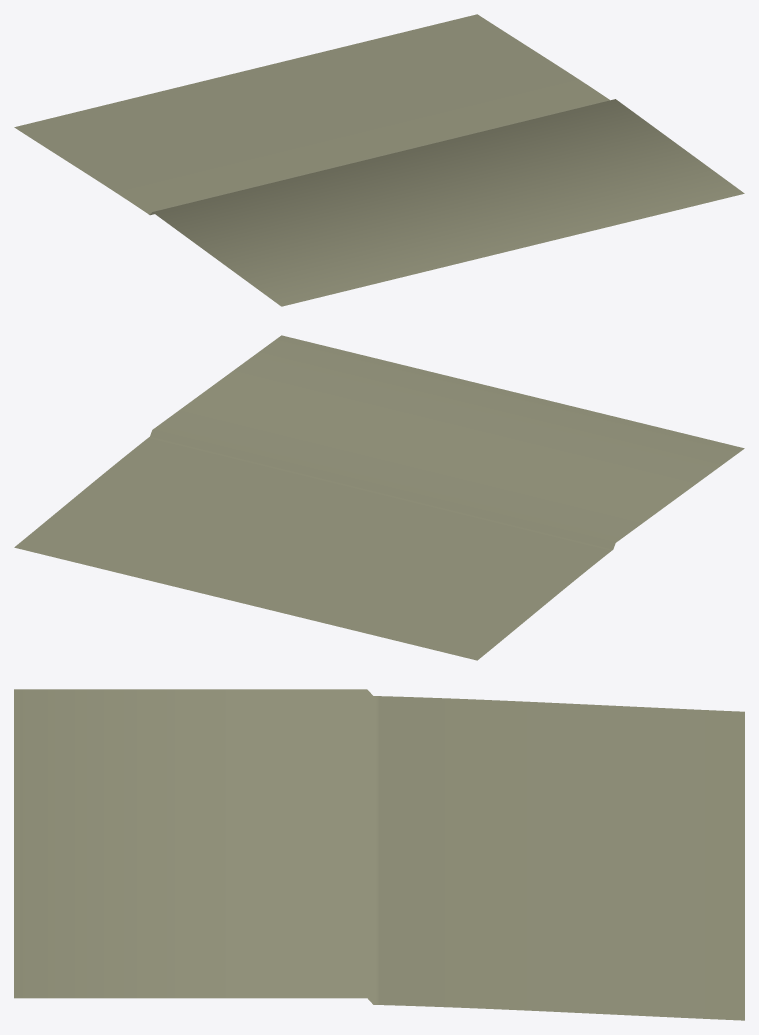
Rendered from SM_VB_CityTerrain_2_2.fbx.
The picture shows the model from 3 angles, top to bottom: view 1: azimuth 30°, elevation 25°; view 2: azimuth 150°, elevation 25°; view 3: azimuth 270°, elevation 25°; orthographic projection. The views are drawn at different scales.
Visible parts, largest first — view 1: SM_VB_CityTerrain_2_2; view 2: SM_VB_CityTerrain_2_2; view 3: SM_VB_CityTerrain_2_2.
Boxes of the visible parts, x1=… form: SM_VB_CityTerrain_2_2: x1=14, y1=14, x2=744, y2=306; SM_VB_CityTerrain_2_2: x1=14, y1=335, x2=744, y2=660; SM_VB_CityTerrain_2_2: x1=14, y1=689, x2=744, y2=1020.
Size of the model in its own units: 600 by 20.29 by 600.
